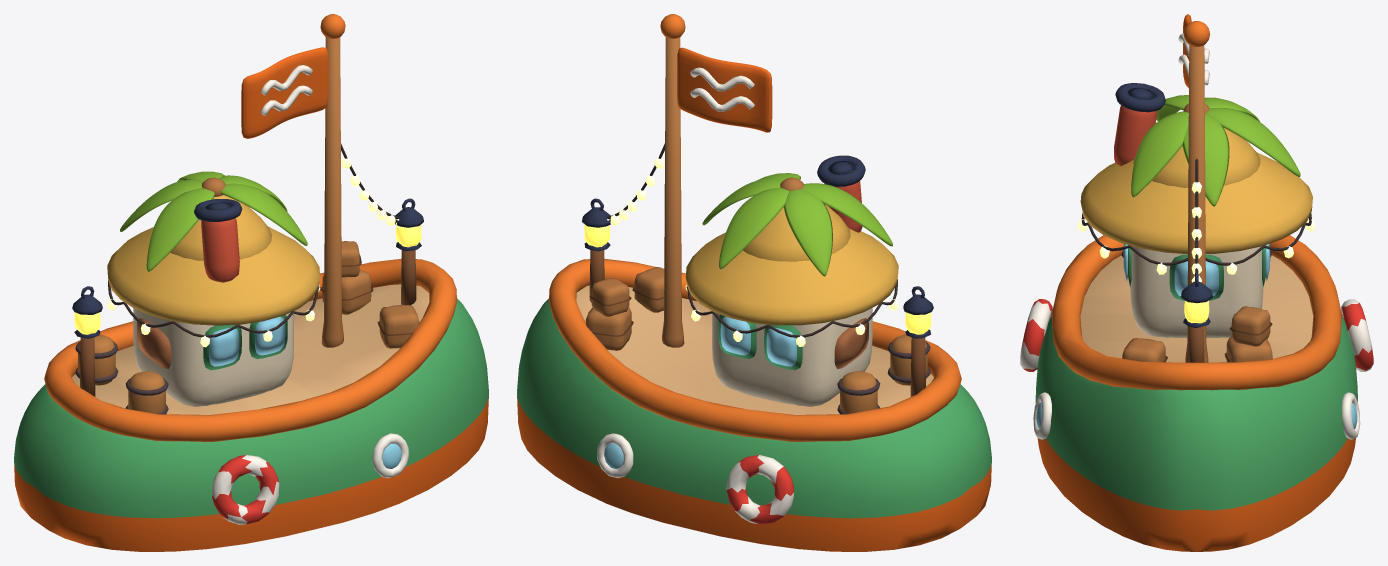
The model's file is arcilla.glb.
3 renders of one model, left to right at view 1: azimuth 30°, elevation 25°; view 2: azimuth 150°, elevation 25°; view 3: azimuth 270°, elevation 25°, orthographic. The views are drawn at different scales.
Visible parts, largest first — view 1: hull, roll, roof, cabin, palm, mast, flag, windows, crates, life_rings, chimney, barrels (+6 smaller); view 2: hull, roll, roof, palm, cabin, mast, flag, crates, windows, life_rings, barrels, lanterns (+6 smaller); view 3: hull, roof, roll, palm, cabin, mast, crates, life_rings, chimney, windows, portholes, lanterns (+4 smaller).
Part boxes in pixels (left/top/right/bottom): hull: left=14, top=284, right=488, bottom=551; roll: left=44, top=258, right=456, bottom=441; roof: left=107, top=195, right=320, bottom=325; cabin: left=133, top=308, right=293, bottom=406; palm: left=120, top=171, right=307, bottom=271; mast: left=321, top=37, right=343, bottom=347; flag: left=241, top=47, right=328, bottom=138; windows: left=137, top=314, right=287, bottom=370; crates: left=320, top=241, right=419, bottom=348; life_rings: left=212, top=455, right=279, bottom=524; chimney: left=194, top=199, right=242, bottom=282; barrels: left=75, top=334, right=168, bottom=414; hull: left=517, top=285, right=991, bottom=551; roll: left=549, top=258, right=961, bottom=441; roof: left=685, top=204, right=898, bottom=325; palm: left=702, top=173, right=892, bottom=276; cabin: left=712, top=308, right=872, bottom=406; mast: left=662, top=37, right=684, bottom=347; flag: left=677, top=47, right=772, bottom=132; crates: left=586, top=267, right=664, bottom=350; windows: left=718, top=314, right=868, bottom=370; life_rings: left=726, top=455, right=793, bottom=524; barrels: left=837, top=334, right=930, bottom=414; lanterns: left=582, top=198, right=933, bottom=338; hull: left=1035, top=255, right=1357, bottom=551; roof: left=1080, top=127, right=1312, bottom=254; roll: left=1051, top=235, right=1341, bottom=390; palm: left=1131, top=95, right=1300, bottom=206; cabin: left=1130, top=246, right=1263, bottom=337; mast: left=1185, top=45, right=1208, bottom=362; crates: left=1122, top=306, right=1272, bottom=362; life_rings: left=1020, top=299, right=1373, bottom=371; chimney: left=1114, top=83, right=1165, bottom=165; windows: left=1123, top=243, right=1270, bottom=300; portholes: left=1033, top=392, right=1360, bottom=439; lanterns: left=1181, top=272, right=1212, bottom=327.
Size of the model in its own units: 1.93 by 1.82 by 1.27.
